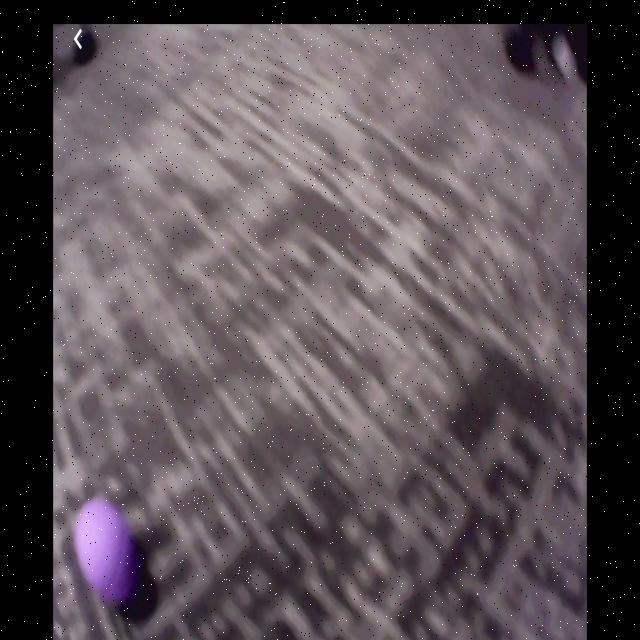ball: (74, 502, 136, 610)
